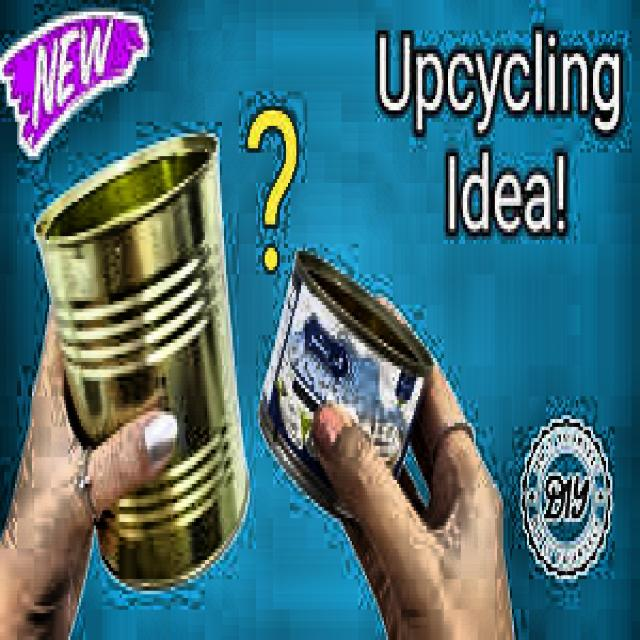can: (30, 125, 251, 601), (259, 239, 435, 529)
